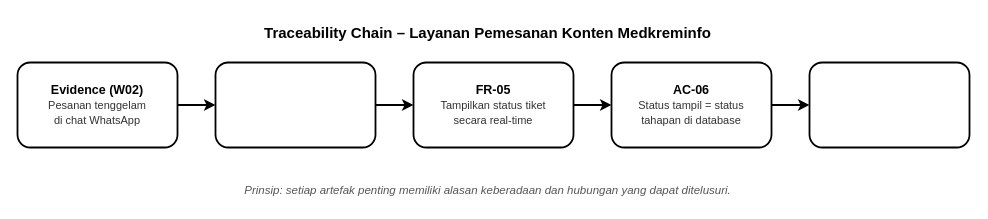
Image size: 988x219. Some labels were removed from this diagram. The shapes that lost their labels are listed below. From the top down, each one's centre as x and y in pixels, then its label:
(x=295, y=104): Pain Point (PP-01) Status pengerjaan tidak terlihat pemesan
(x=889, y=104): Next Model UC Lacak Progres / State Diagram Tiket
